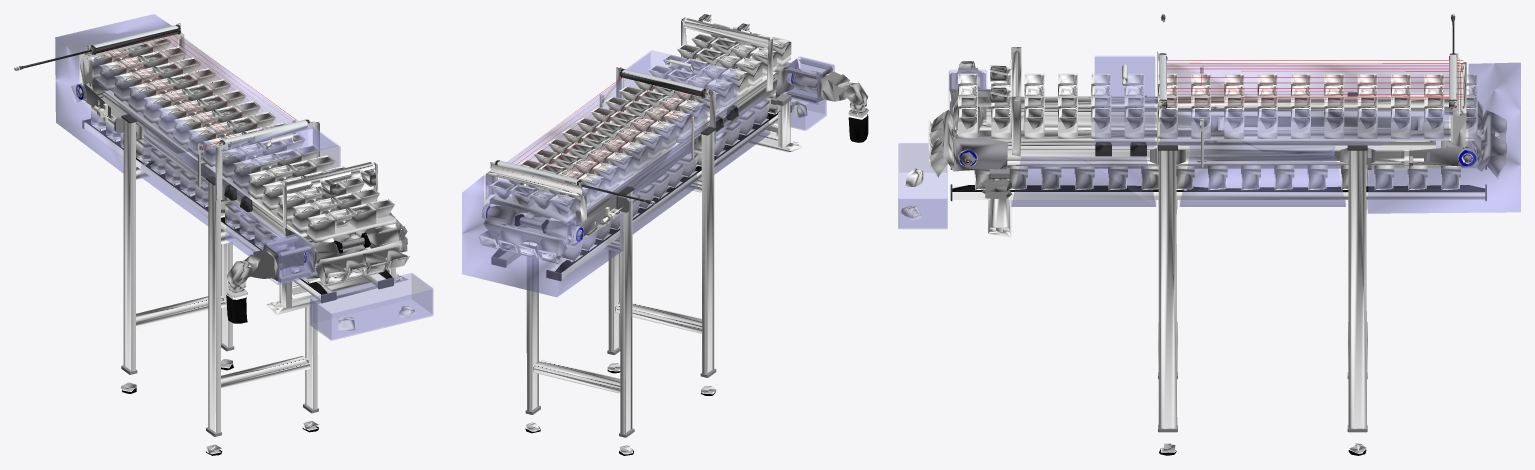
File: tank-magazine.glb
The picture shows the model from 3 angles, left to right: view 1: azimuth 30°, elevation 25°; view 2: azimuth 150°, elevation 25°; view 3: azimuth 270°, elevation 25°; orthographic projection. The views are drawn at different scales.
Visible parts, largest first — view 1: part8, part7, part5, part6, part4, part10, part0, part1, part2, part19, part11, part3 (+3 smaller); view 2: part8, part7, part5, part6, part4, part10, part0, part1, part2, part12, part19, part3 (+3 smaller); view 3: part8, part7, part4, part5, part6, part22, part10, part12, part2, part0, part14, part19.
Boxes of the visible parts, x1,y1,x2,y2 form: part8: (55, 14, 433, 340); part7: (71, 38, 409, 453); part5: (71, 39, 407, 285); part6: (75, 32, 415, 330); part4: (82, 53, 402, 273); part10: (77, 84, 401, 436); part0: (19, 24, 393, 303); part1: (91, 50, 316, 453); part2: (93, 89, 404, 309); part19: (93, 25, 307, 148); part11: (198, 120, 408, 314); part3: (78, 88, 370, 455); part8: (462, 50, 834, 297); part7: (478, 23, 793, 453); part5: (479, 24, 791, 260); part6: (485, 14, 868, 261); part4: (483, 17, 790, 251); part10: (487, 46, 832, 437); part0: (491, 69, 791, 281); part1: (527, 72, 868, 453); part2: (586, 70, 798, 224); part12: (492, 113, 777, 272); part19: (497, 69, 704, 184); part3: (514, 67, 868, 455); part8: (898, 56, 1520, 228); part7: (928, 73, 1506, 453); part4: (943, 47, 1491, 174); part5: (930, 75, 1505, 188); part6: (901, 48, 1504, 220); part22: (1167, 60, 1462, 102); part10: (949, 71, 1471, 432); part12: (952, 185, 1485, 191); part2: (986, 106, 1435, 232); part0: (950, 16, 1486, 201); part14: (959, 14, 1454, 199); part19: (1159, 54, 1456, 99).
Bounding box in the file's own units: 0.7327 × 1.18 × 1.87.
